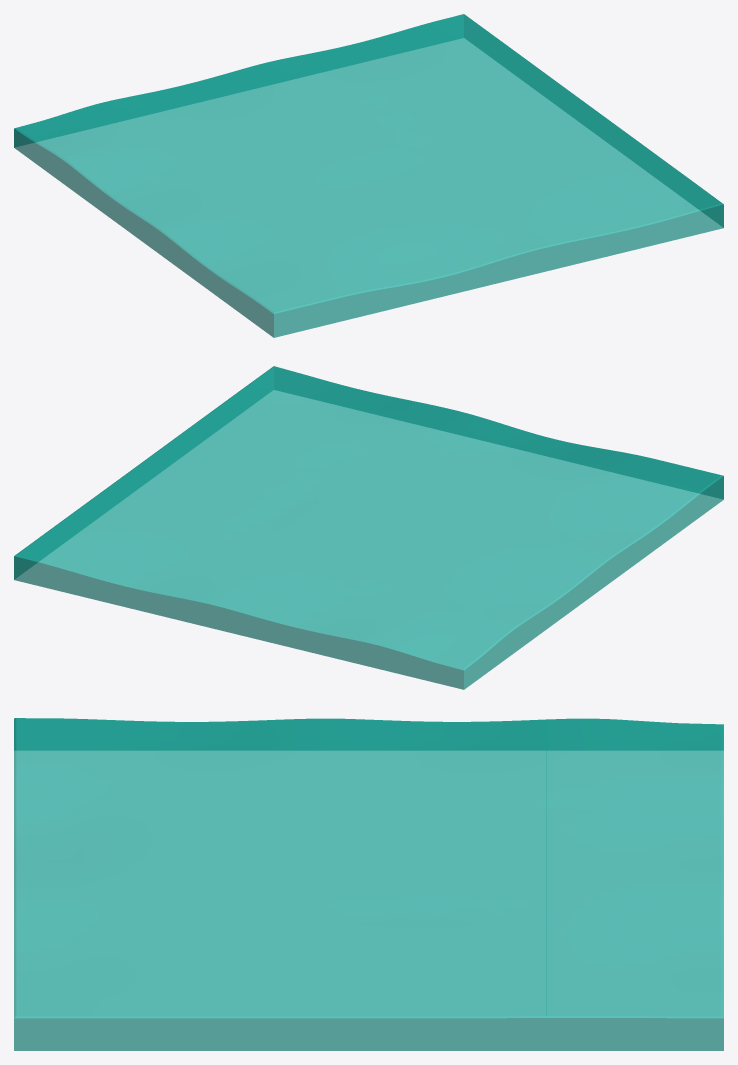
The model's file is water.fbx.
3 renders of one model, top to bottom at view 1: azimuth 30°, elevation 25°; view 2: azimuth 150°, elevation 25°; view 3: azimuth 270°, elevation 25°, orthographic. The views are drawn at different scales.
Visible parts, largest first — view 1: water; view 2: water; view 3: water.
Boxes of the visible parts, x1,y1,x2,y2 form: water: [14, 14, 723, 337]; water: [14, 366, 723, 689]; water: [14, 718, 723, 1050].
Bounding box in the file's own units: 8873 × 469 × 8873.
